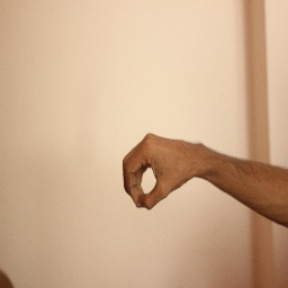O: (121, 129, 201, 210)
